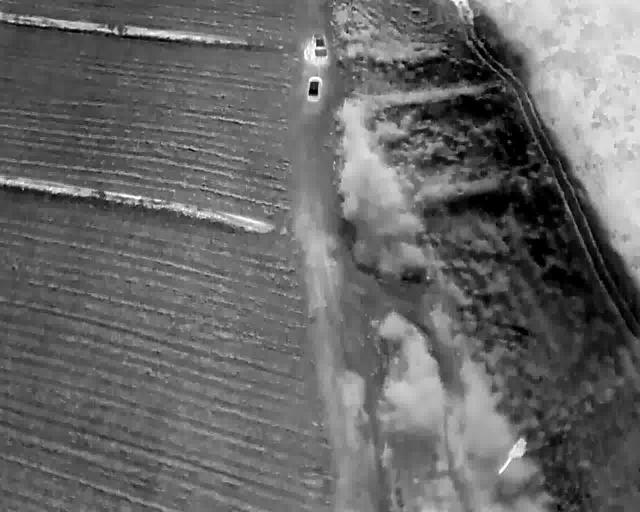car: (312, 31, 328, 61), (308, 76, 321, 101)
person: (303, 48, 308, 60)
